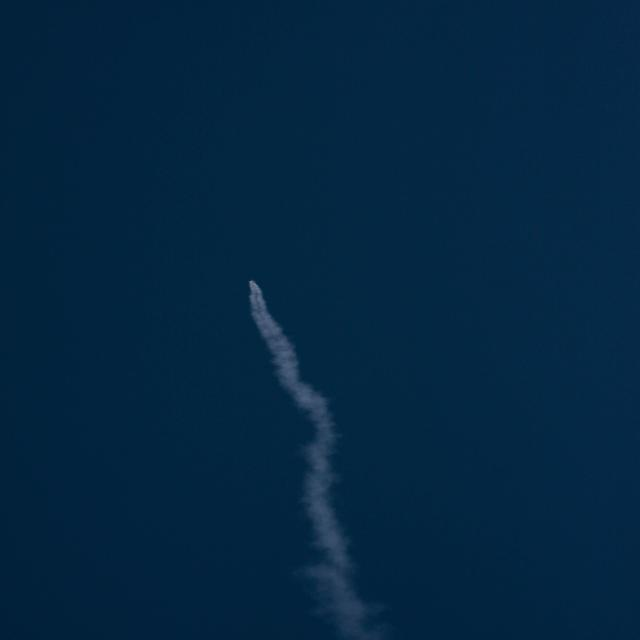Rocket: (248, 279, 257, 283)
